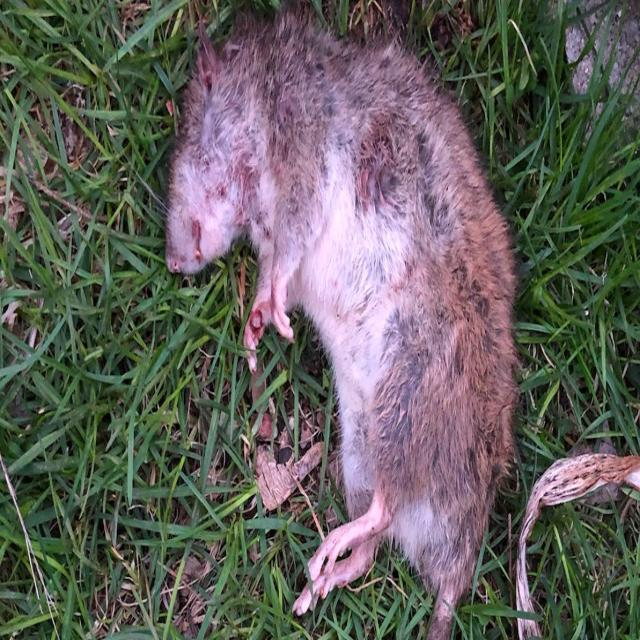rat: (166, 4, 517, 639)
